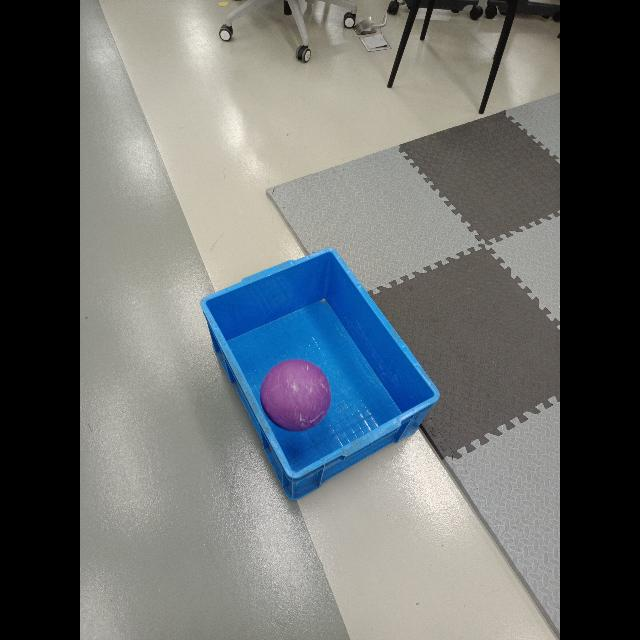P: (260, 358, 332, 432)
